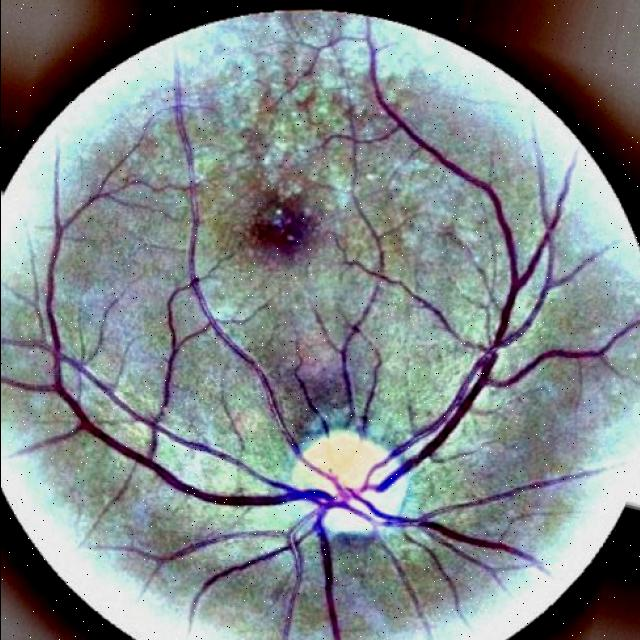Macula: (248, 202, 317, 262)
Nerves: (0, 17, 640, 640)
Optic Disk: (289, 430, 400, 536)
